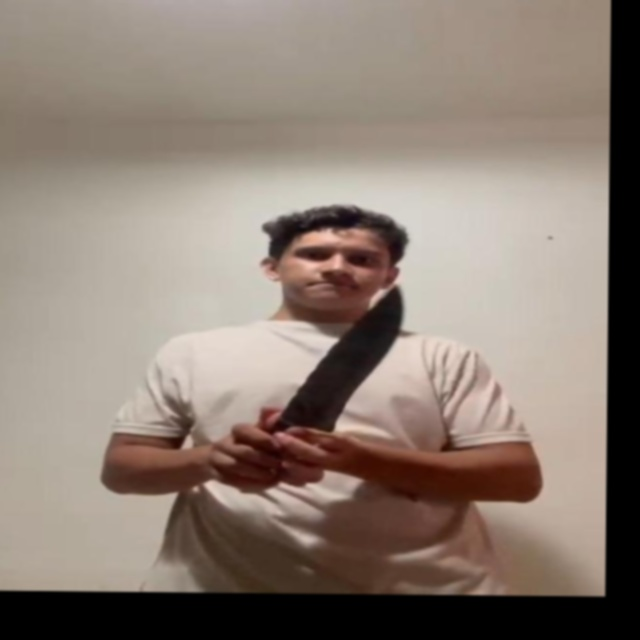Sharp-Object: (280, 284, 410, 434)
